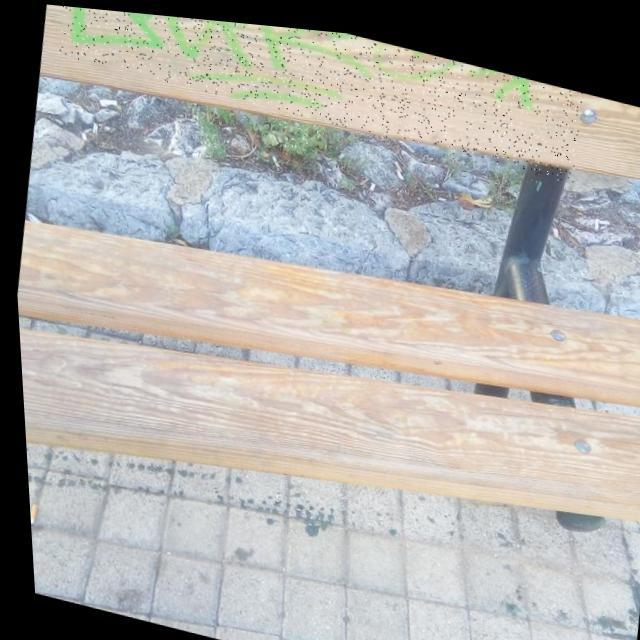-: (55, 4, 586, 174)
